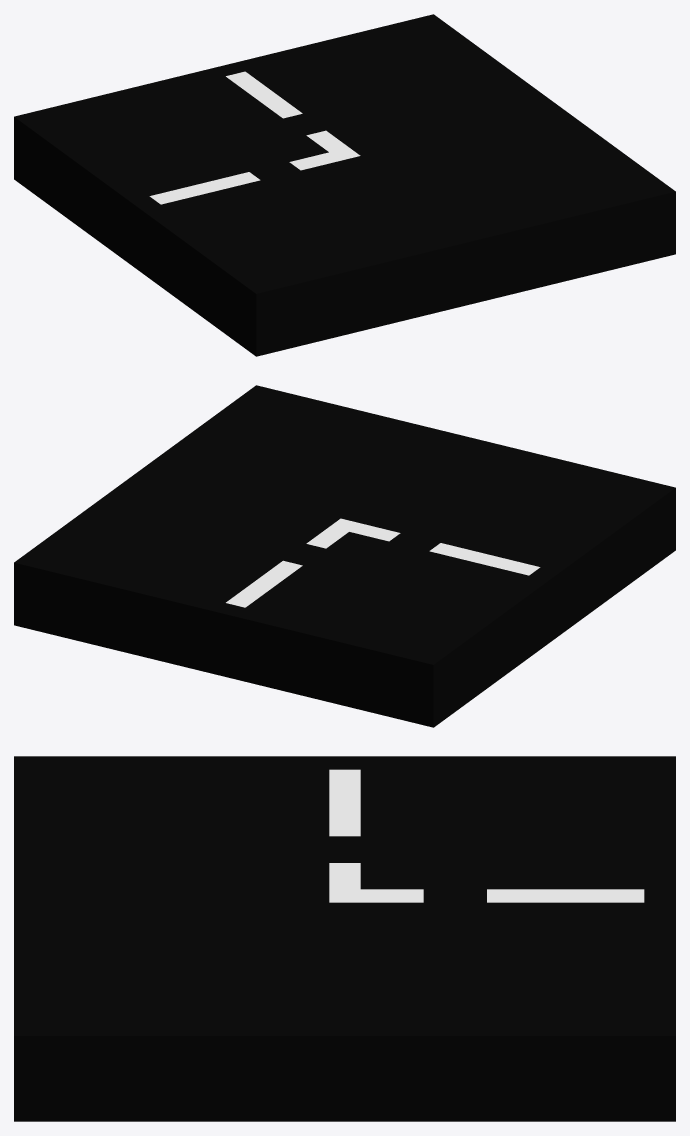
The model's file is Exports-8.obj.
3 views of the same model, one above another, from view 1: azimuth 30°, elevation 25°; view 2: azimuth 150°, elevation 25°; view 3: azimuth 270°, elevation 25° (orthographic). The views are drawn at different scales.
Size of the model in its own units: 2.1 by 0.3 by 2.1.
1 material, 1 textured.
